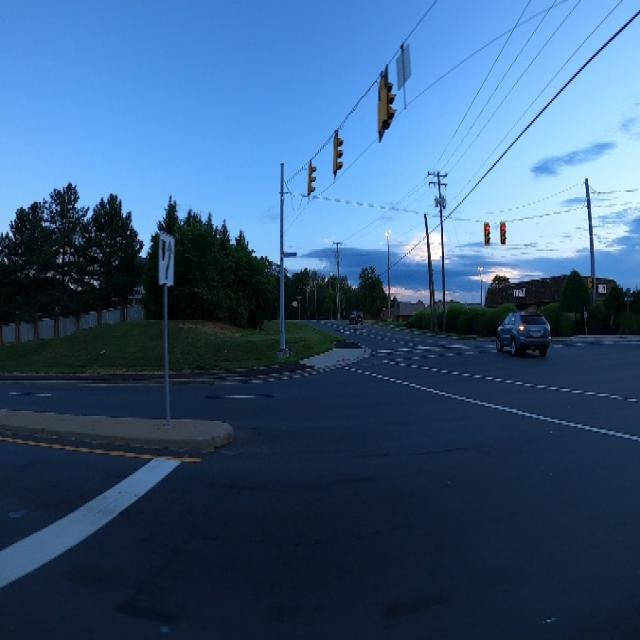cars: (495, 301, 551, 369), (348, 308, 363, 328)
